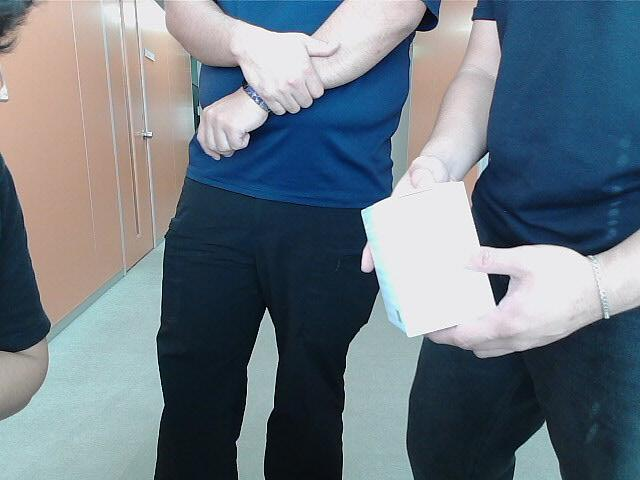Blind_box: (360, 179, 498, 342)
